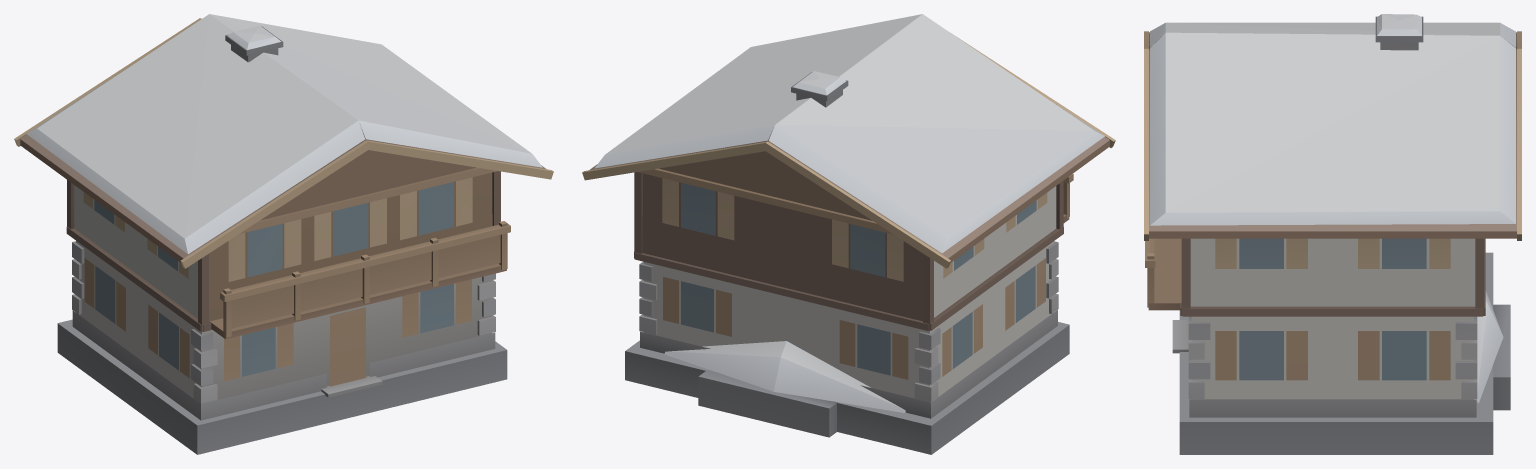
Rendered from chalet.lod2.glb.
The picture shows the model from 3 angles, left to right: view 1: azimuth 30°, elevation 25°; view 2: azimuth 150°, elevation 25°; view 3: azimuth 270°, elevation 25°; orthographic projection. The views are drawn at different scales.
Bounding box in the file's own units: 13.73 × 11.02 × 10.8.
